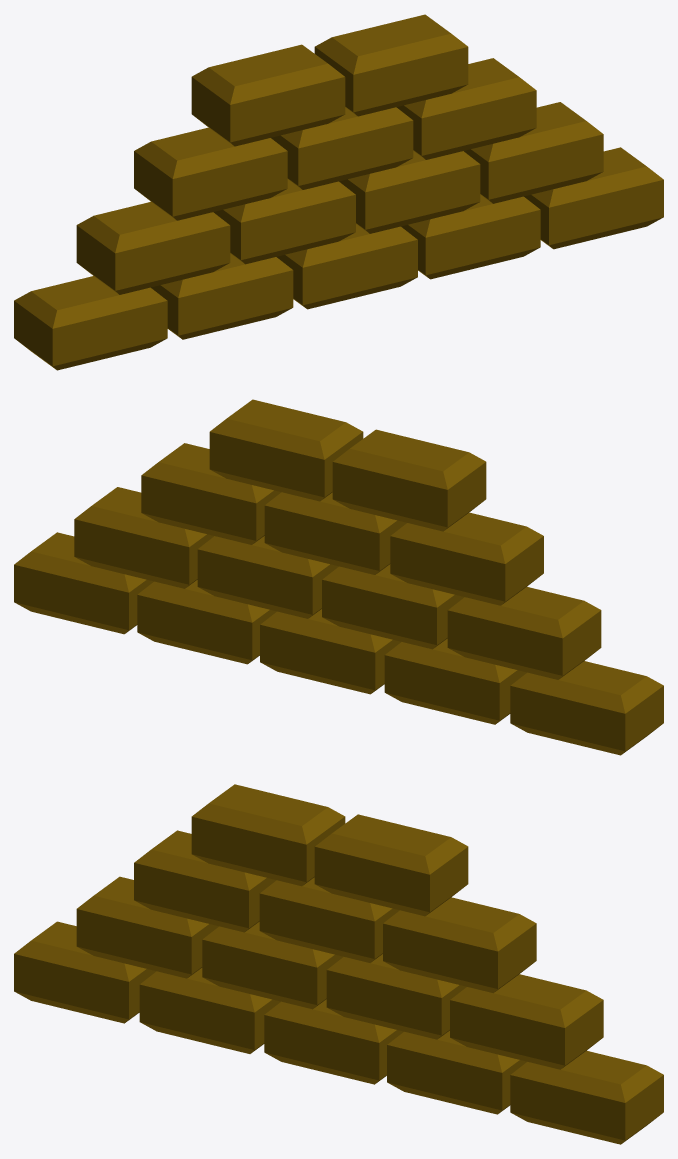
Rendered from SandbagNormal.fbx.
3 renders of one model, top to bottom at view 1: azimuth 30°, elevation 25°; view 2: azimuth 150°, elevation 25°; view 3: azimuth 330°, elevation 25°, orthographic.
Parts seen in each view (by area): view 1: ConcreteBarricadeShort.014; view 2: ConcreteBarricadeShort.014; view 3: ConcreteBarricadeShort.014.
Boxes of the visible parts, left/top/right/bottom form: ConcreteBarricadeShort.014: left=14, top=14, right=663, bottom=370; ConcreteBarricadeShort.014: left=14, top=399, right=663, bottom=755; ConcreteBarricadeShort.014: left=14, top=784, right=663, bottom=1144.
Bounding box in the file's own units: 1063 × 400 × 116.
